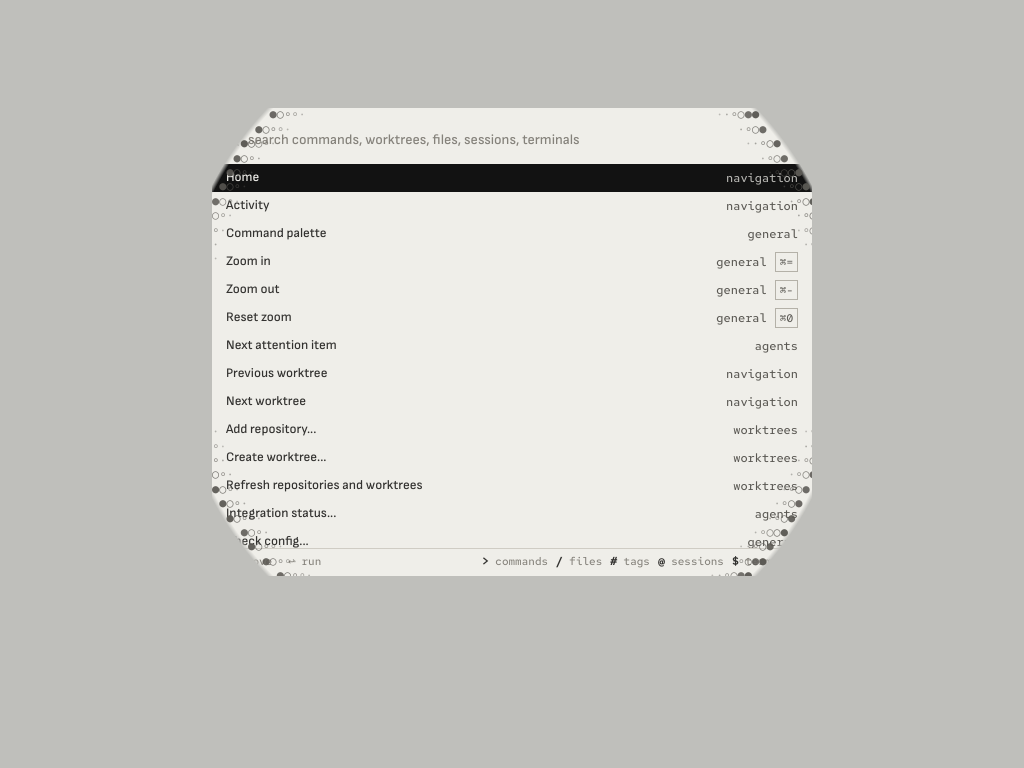
Test: palette nested actions › Backspace with text in the query edits the text and stays in the sub-list
Type "aogashima" into the field labelled "search commands" at (523,140), box 248,112 -> 798,168
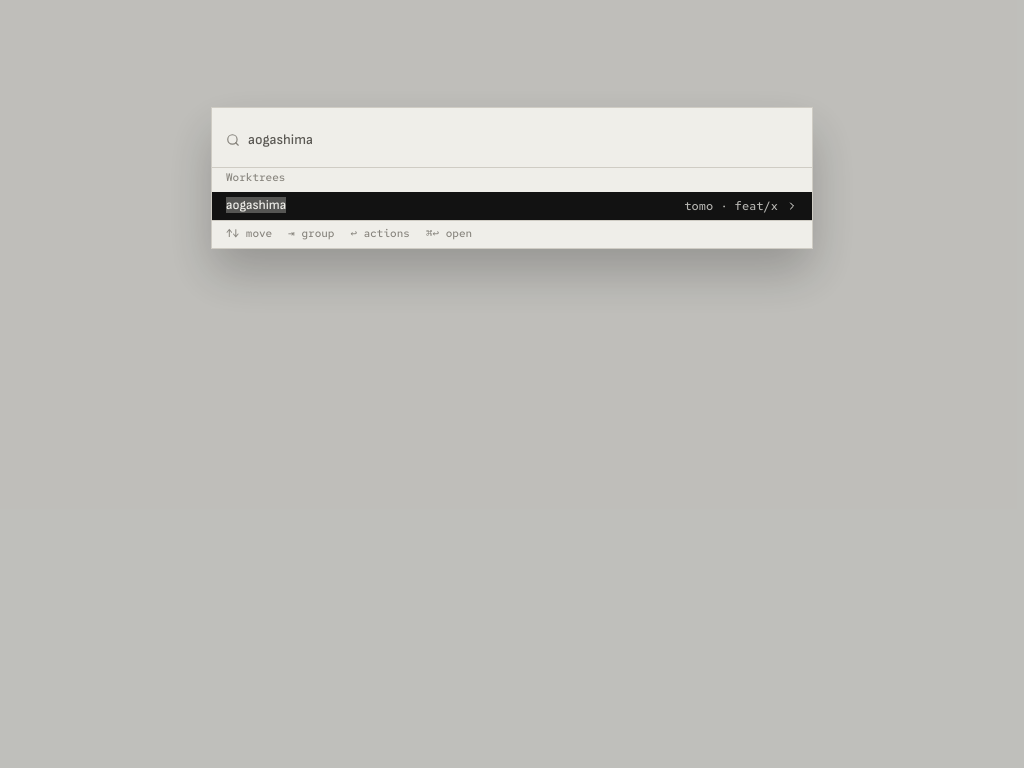
Press Enter
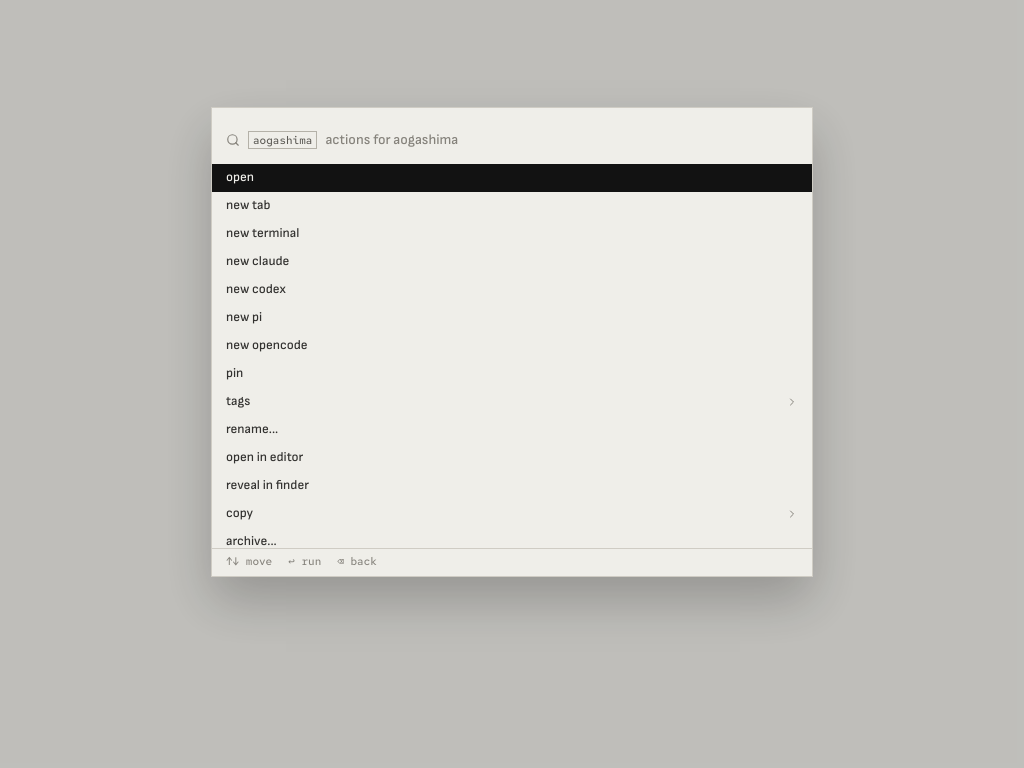
Type "op" into the field named "Search commands" at (562,140), box 325,112 -> 798,168
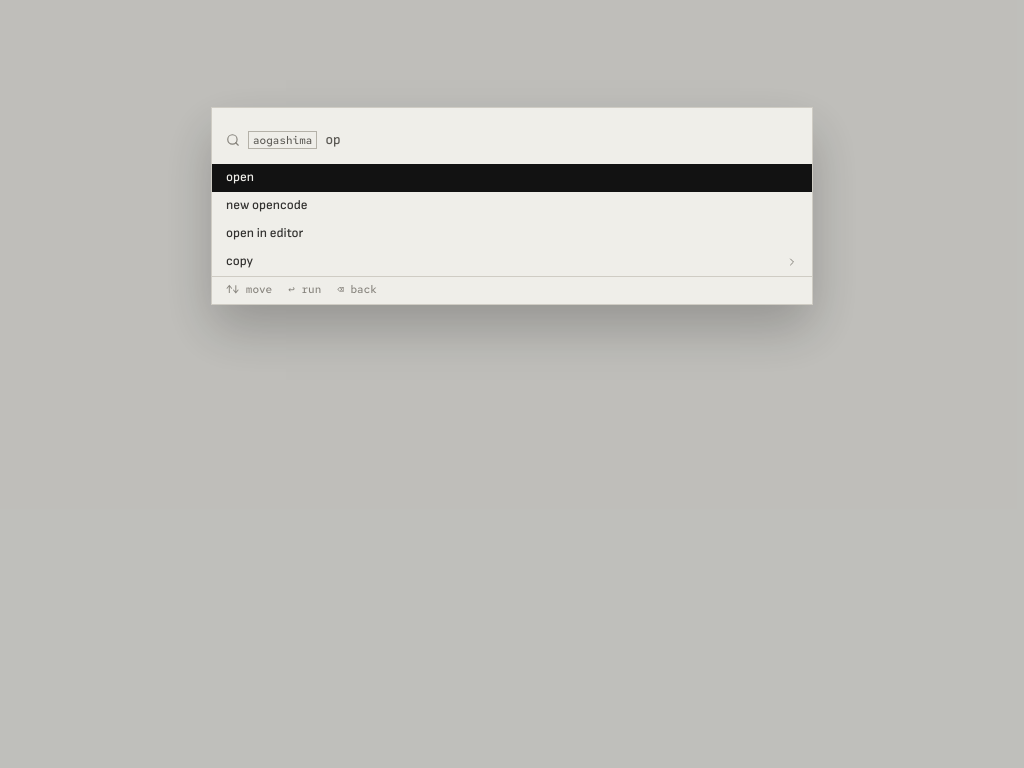
Press Backspace
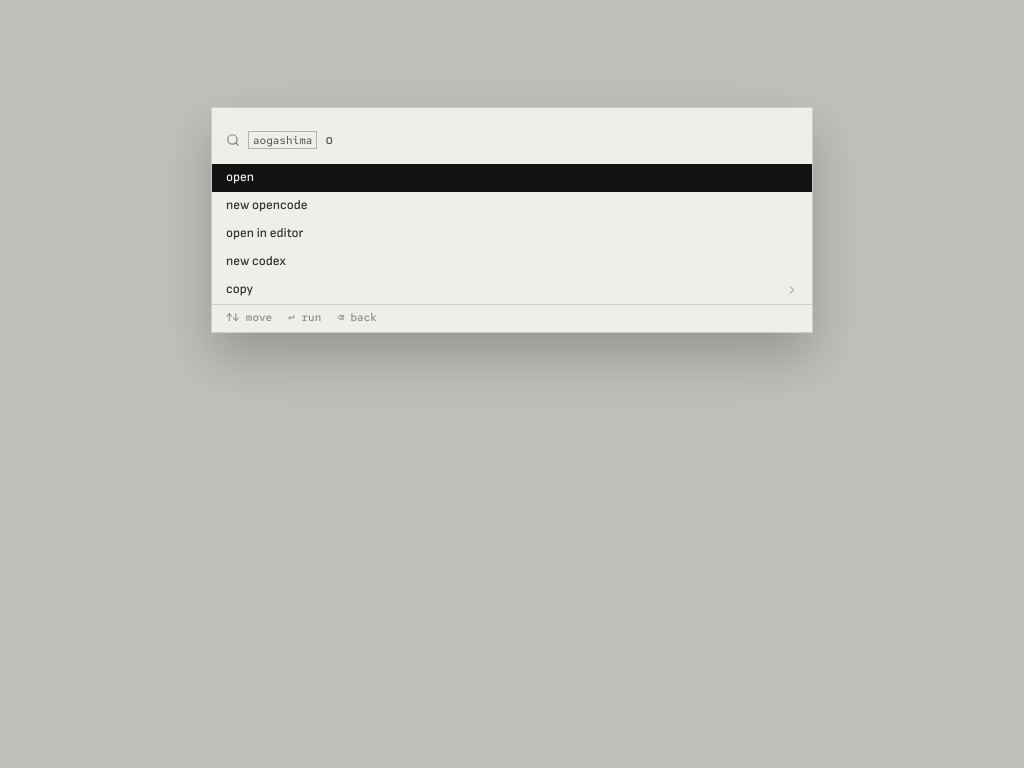
Now the field named "Search commands" holds "o", box 325,112 -> 798,168
